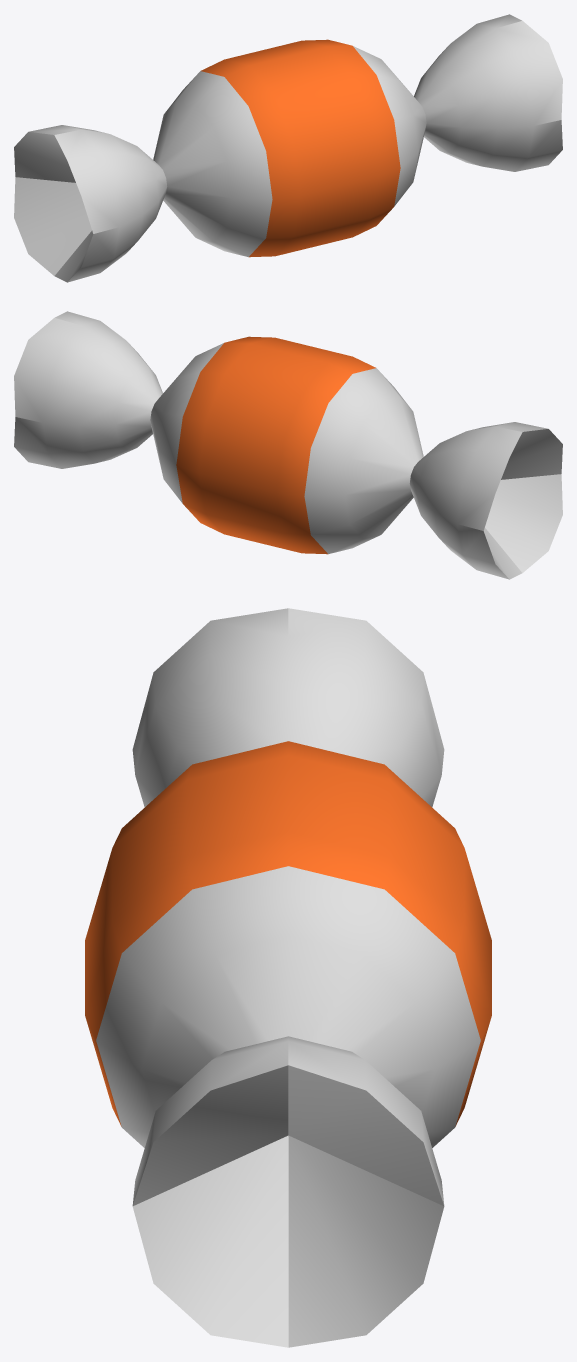
The model's file is candyA.gltf.glb.
3 views of the same model, one above another, from view 1: azimuth 30°, elevation 25°; view 2: azimuth 150°, elevation 25°; view 3: azimuth 270°, elevation 25° (orthographic). The views are drawn at different scales.
Visible parts, largest first — view 1: candyA; view 2: candyA; view 3: candyA.
Boxes of the visible parts, x1,y1,x2,y2 form: candyA: [14, 14, 562, 282]; candyA: [14, 311, 562, 579]; candyA: [85, 608, 491, 1347].
Bounding box in the file's own units: 0.9694 × 0.3546 × 0.3546.
